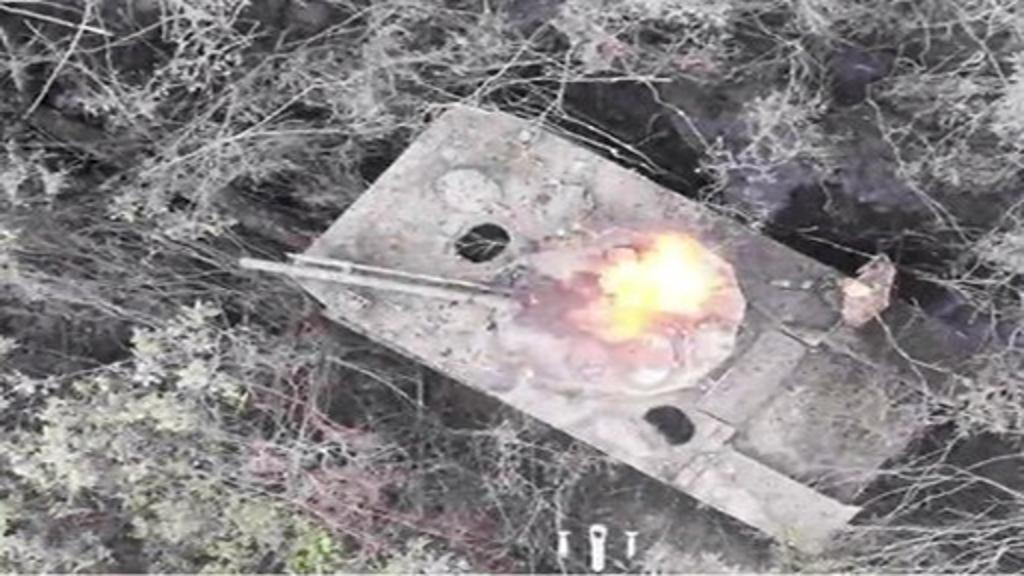APC-IFV: (234, 96, 976, 558)
